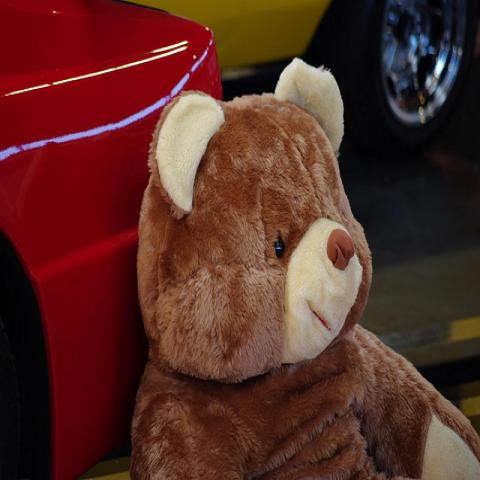car: (0, 0, 227, 471), (147, 3, 478, 231)
